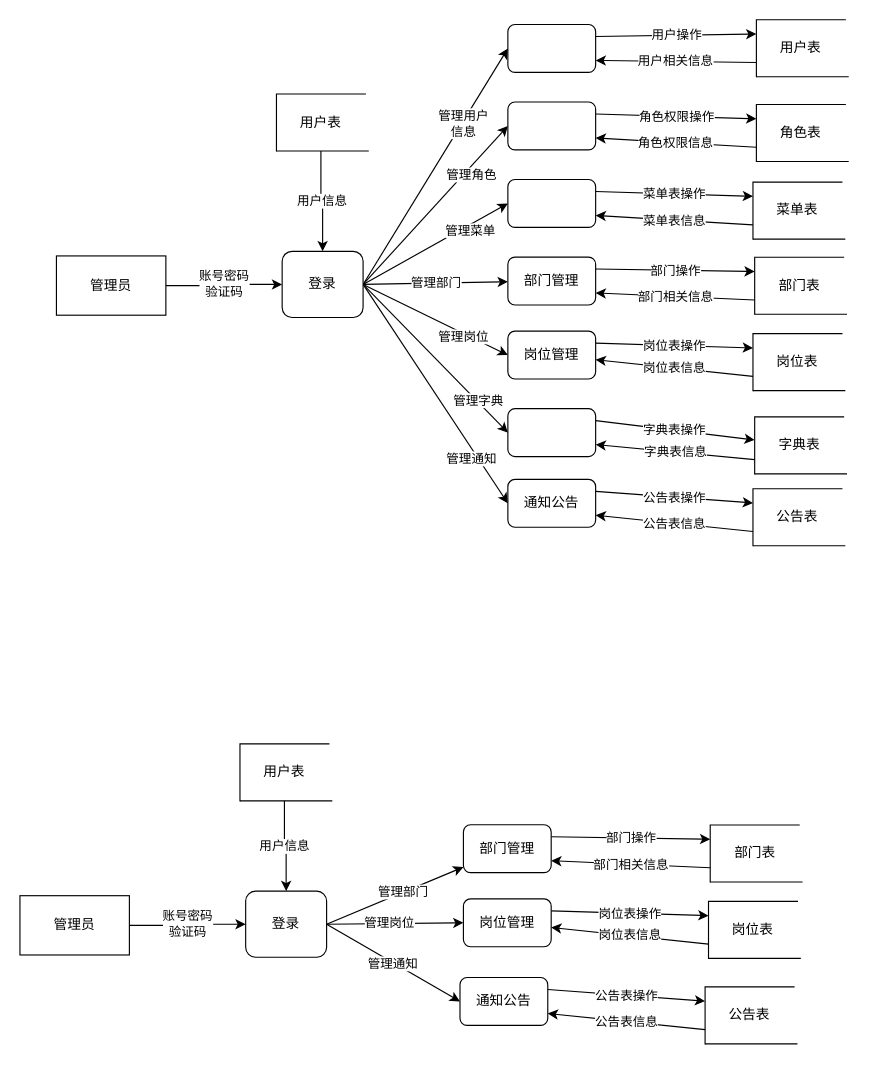
Image size: 869x1070. Some labels were removed from this diagram. Here are the shapes that lost their labels. From the top down, the centre of each, then its label:
At pixel 551 47: "用户管理".
At pixel 551 125: "角色管理".
At pixel 551 202: "菜单管理".
At pixel 551 432: "字典管理".
